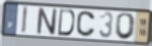3: (99, 11, 114, 40)
C: (76, 10, 96, 38)
D: (56, 8, 75, 38)
I: (20, 5, 29, 35)
N: (36, 7, 58, 37)
O: (114, 12, 137, 41)
